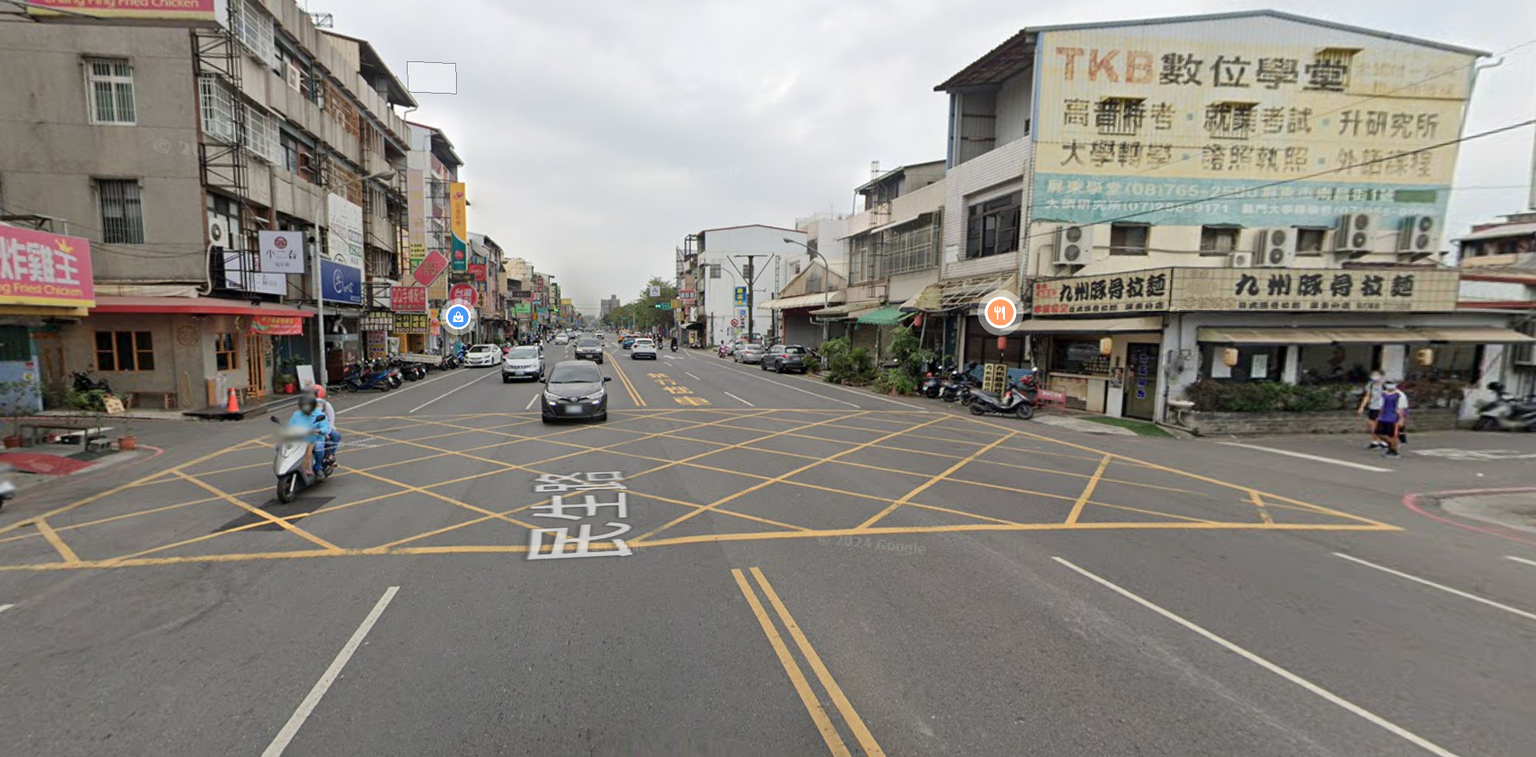green: (544, 303, 563, 313), (647, 300, 663, 311)
